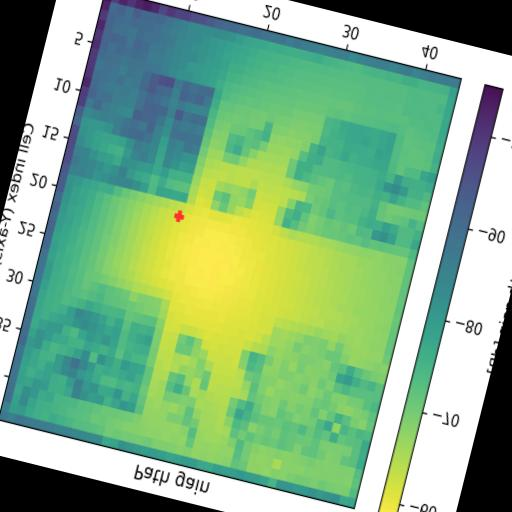Concrete: (246, 326, 345, 458)
Glass: (63, 280, 171, 416)
Metal: (298, 116, 398, 248)
Wood: (108, 70, 214, 202)
